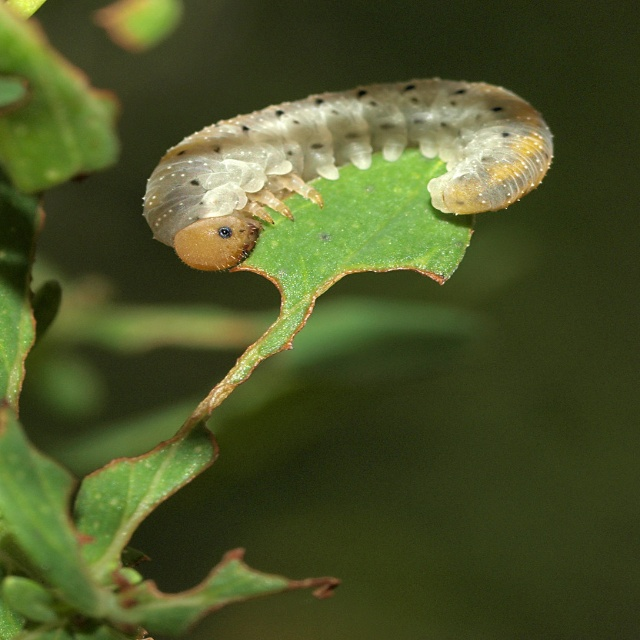Caterpillar: (134, 72, 556, 274)
